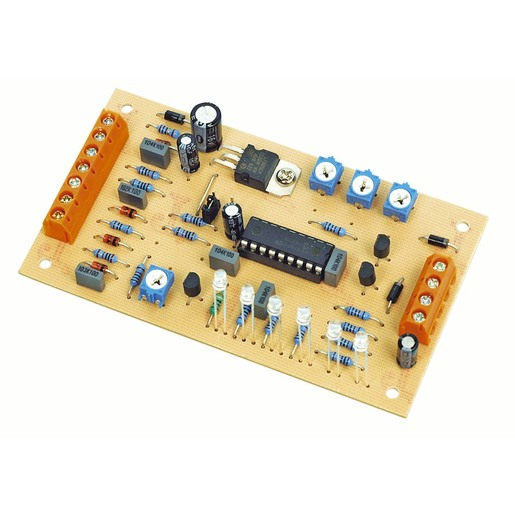capacitor: (190, 102, 223, 151), (178, 133, 201, 171), (223, 203, 246, 238), (398, 333, 420, 367)
resistor: (92, 248, 118, 264), (130, 263, 146, 289), (174, 225, 198, 242), (347, 306, 371, 321), (324, 221, 346, 237), (157, 123, 180, 138), (110, 218, 132, 233), (131, 177, 153, 192), (138, 165, 160, 180), (182, 213, 205, 227), (341, 322, 363, 334)
